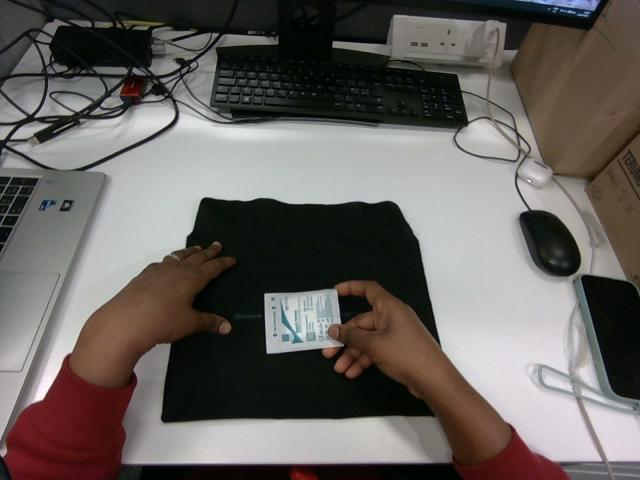gauze: (266, 290, 341, 353)
